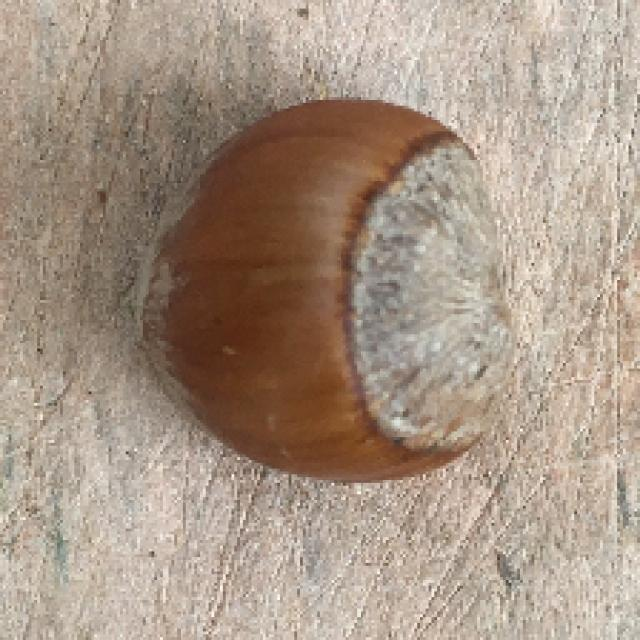damagedHazelnut: (129, 97, 512, 489)
